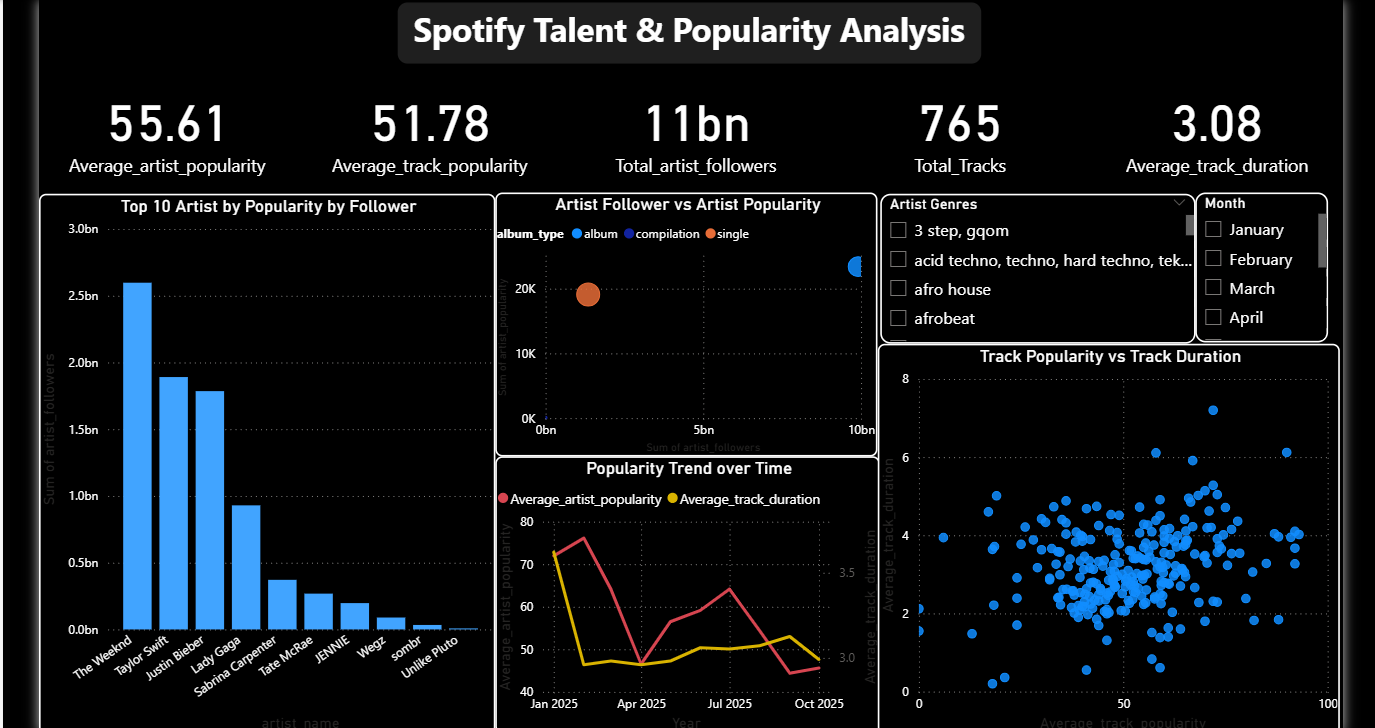

The page's visual inventory and layout, read from the dashboard file:
{"tool":"powerbi","page":{"name":"Report 1","canvas":[1280,720],"ordinal":1},"visuals":[{"type":"textbox","box":[349.7,0,577.9,65],"z":0},{"type":"card","title":"Avg Artist Popularity","fields":{"Values":["spotify_data clean.Average_artist_popularity"]},"box":[0,65,252.8,123.9],"z":1000},{"type":"card","fields":{"Values":["spotify_data clean.Average_track_popularity"]},"box":[252.8,65,262.6,123.9],"z":2000},{"type":"card","fields":{"Values":["spotify_data clean.Total_artist_followers"]},"box":[515.3,65,260.1,123.9],"z":3000},{"type":"card","fields":{"Values":["spotify_data clean.Total_Tracks"]},"box":[775.5,65,258.9,123.9],"z":4000},{"type":"card","fields":{"Values":["spotify_data clean.Average_track_duration"]},"box":[1034.4,65,245.4,123.9],"z":5000},{"type":"columnChart","title":"Top 10 Artist by Popularity by Follower","fields":{"Category":["spotify_data clean.artist_name"],"Y":["Sum(spotify_data clean.artist_followers)"]},"box":[0,190.2,447.9,530.1],"z":6000},{"type":"scatterChart","title":"Artist Follower vs Artist Popularity","fields":{"X":["Sum(spotify_data clean.artist_followers)"],"Y":["Sum(spotify_data clean.artist_popularity)"],"Series":["spotify_data clean.album_type"],"Size":["spotify_data clean.Total_Tracks"]},"box":[447.9,189,375.5,258.9],"z":7000},{"type":"slicer","fields":{"Values":["spotify_data clean.artist_genres"]},"box":[825.8,190.2,309.2,147.2],"z":8000},{"type":"slicer","fields":{"Values":["spotify_data clean.album_release_date.Variation.Date Hierarchy.Month"]},"box":[1135,189,130.1,147.2],"z":9000},{"type":"lineChart","title":"Popularity Trend over Time","fields":{"Category":["spotify_data clean.album_release_date.Variation.Date Hierarchy.Year","spotify_data clean.album_release_date.Variation.Date Hierarchy.Month"],"Y":["spotify_data clean.Average_artist_popularity"],"Y2":["spotify_data clean.Average_track_duration"]},"box":[447.9,447.9,377.9,272.4],"z":10000},{"type":"scatterChart","title":"Track Popularity vs Track Duration","fields":{"Category":["spotify_data clean.track_duration_min"],"X":["spotify_data clean.Average_track_popularity"],"Y":["spotify_data clean.Average_track_duration"]},"box":[823.3,337.4,454,382.8],"z":11000}]}

Visuals, with their boxes on the page's 1280x720 design canvas (x1, y1, x2, y2). These are canvas units, not pixel positions in the 1375x728 screenshot, which may show the page scaled, cropped or inside an application window:
textbox: box(350, 0, 928, 65)
"Avg Artist Popularity" card: box(0, 65, 253, 189)
card - spotify_data clean.Average_track_popularity: box(253, 65, 515, 189)
card - spotify_data clean.Total_artist_followers: box(515, 65, 775, 189)
card - spotify_data clean.Total_Tracks: box(776, 65, 1034, 189)
card - spotify_data clean.Average_track_duration: box(1034, 65, 1280, 189)
"Top 10 Artist by Popularity by Follower" columnChart: box(0, 190, 448, 720)
"Artist Follower vs Artist Popularity" scatterChart: box(448, 189, 823, 448)
slicer - spotify_data clean.artist_genres: box(826, 190, 1135, 337)
slicer - spotify_data clean.album_release_date.Variation.Date Hierarchy.Month: box(1135, 189, 1265, 336)
"Popularity Trend over Time" lineChart: box(448, 448, 826, 720)
"Track Popularity vs Track Duration" scatterChart: box(823, 337, 1277, 720)
